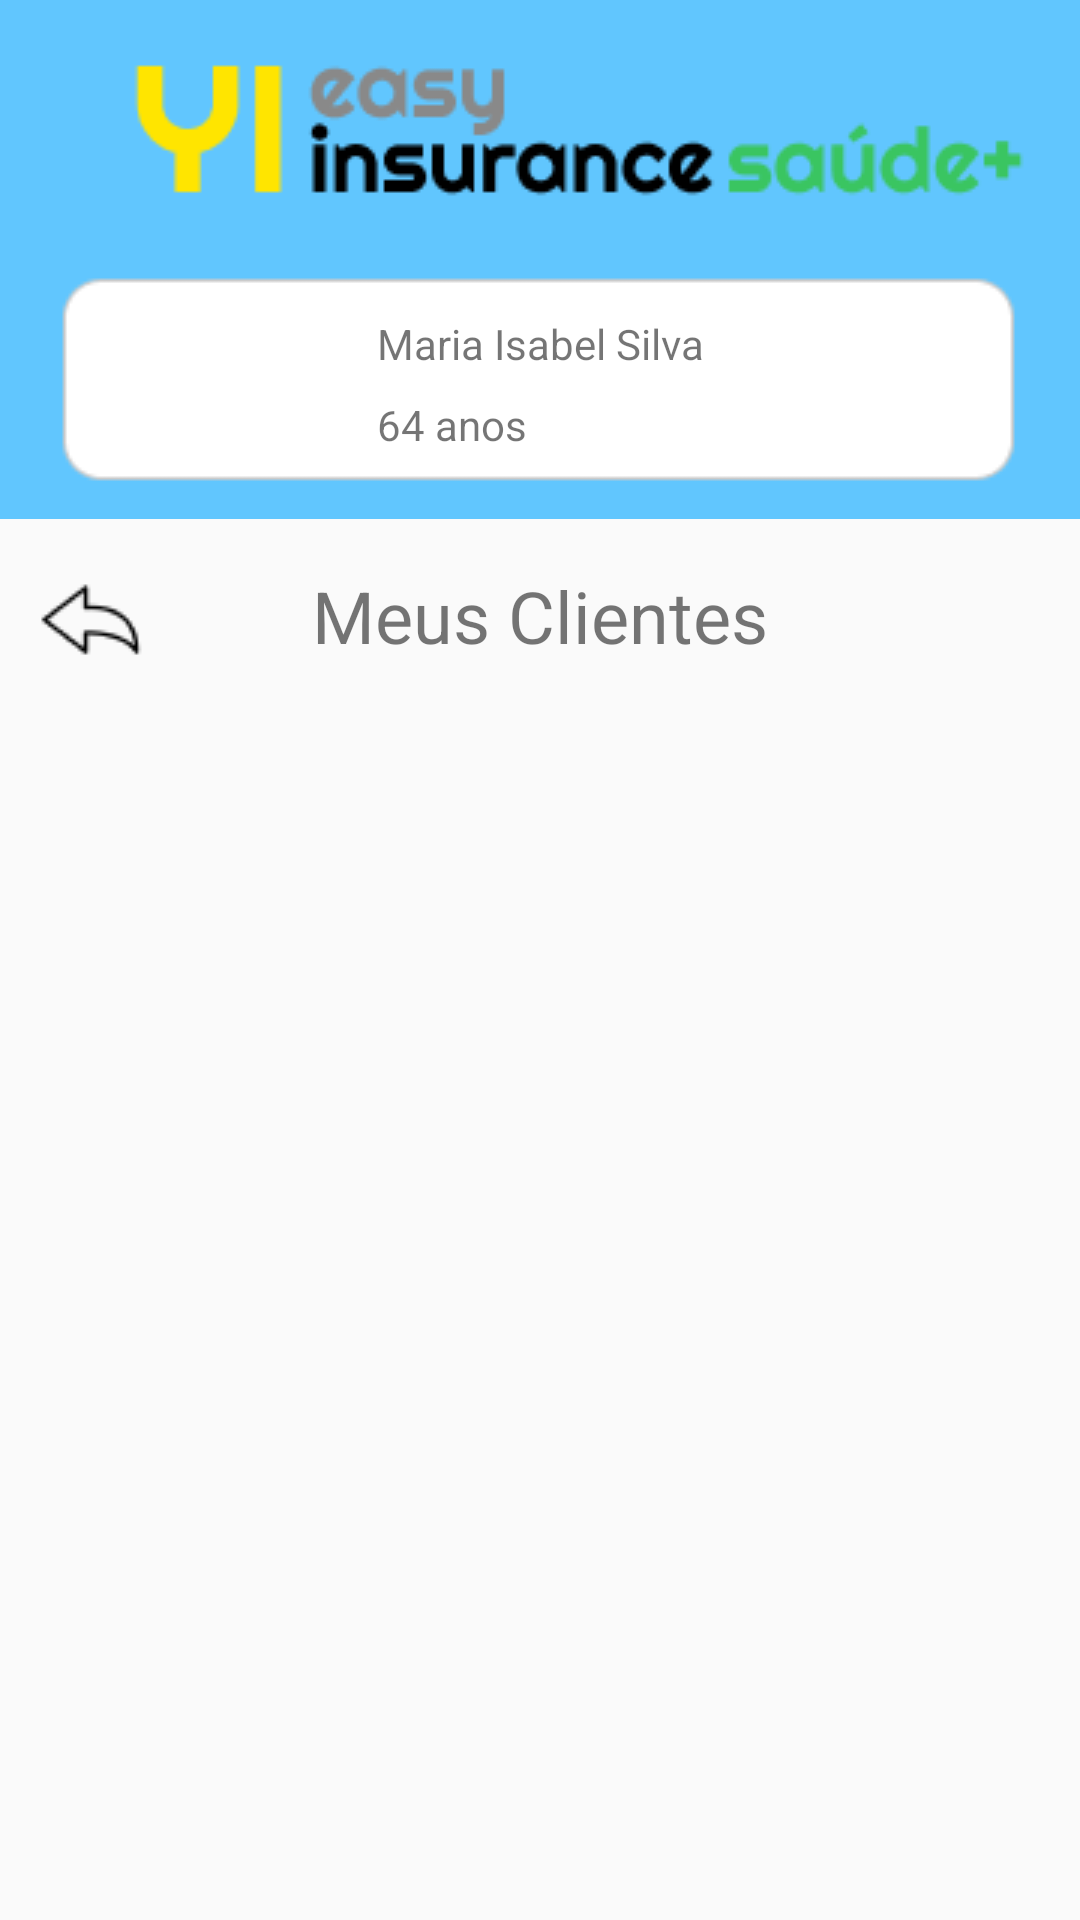

Named icons in this screenshot (1080x1920) and their centers, point (x, y):
back: point (91, 619)
